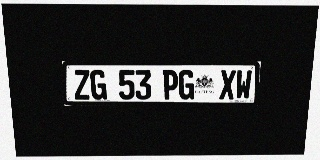3: (135, 70, 151, 100)
5: (119, 70, 135, 100)
G: (90, 70, 107, 100), (178, 70, 195, 99)
P: (162, 70, 178, 100)
W: (235, 70, 252, 99)
X: (219, 70, 236, 99)
Z: (73, 70, 91, 100)
